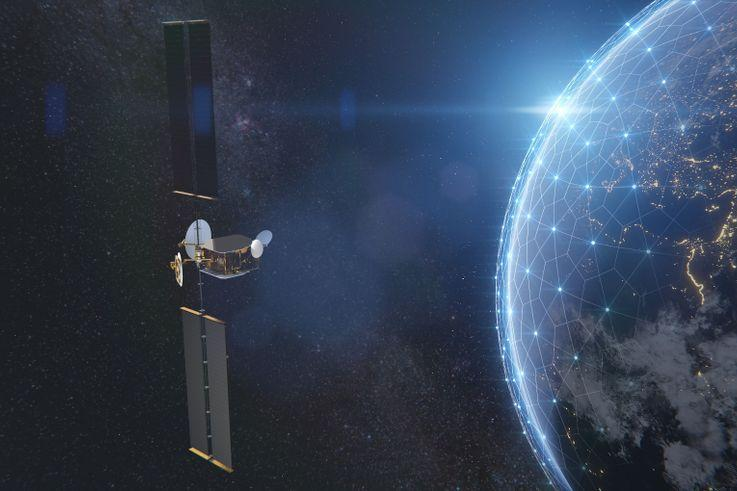antenna: (177, 218, 212, 262), (168, 250, 185, 288), (250, 237, 263, 260), (258, 230, 274, 246)
body: (196, 233, 260, 281)
solar: (161, 18, 221, 202), (178, 306, 236, 474)
